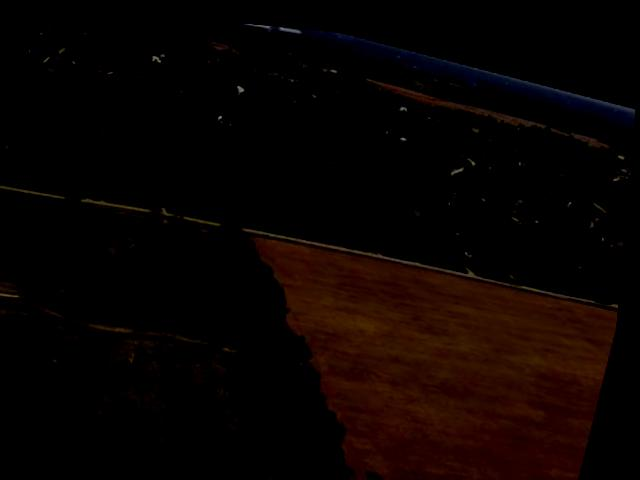iha: (173, 13, 395, 57)
